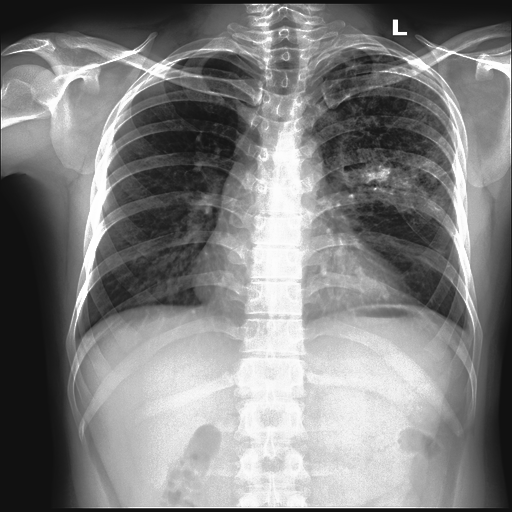Aortic enlargement: (316, 48, 459, 221)
Cardiomegaly: (310, 49, 456, 228)
ILD: (311, 48, 453, 225)
Nodule/Mass: (190, 248, 413, 312)
Pneumothorax: (316, 48, 459, 221)
